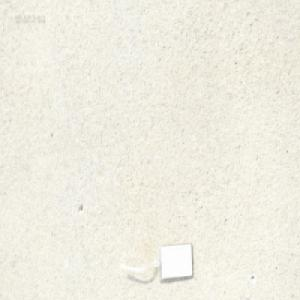LuggageTag: (115, 239, 191, 282)
